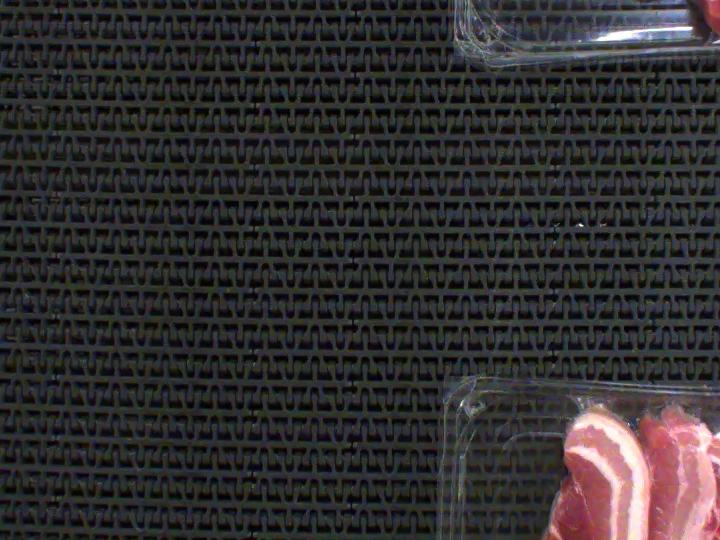packaging-error: (641, 396, 706, 430), (567, 389, 628, 421)
